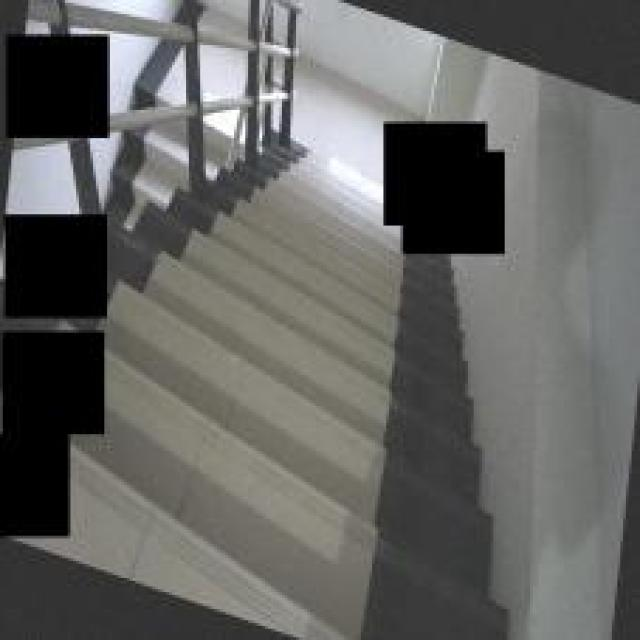downstair: (178, 240, 386, 618)
